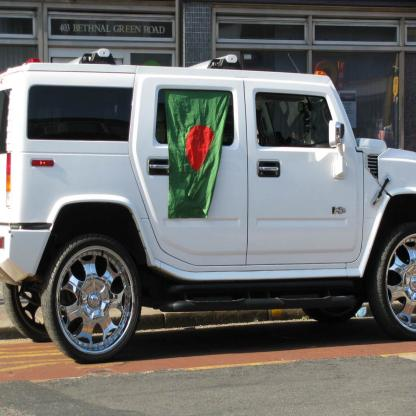Car: (1, 48, 416, 366)
